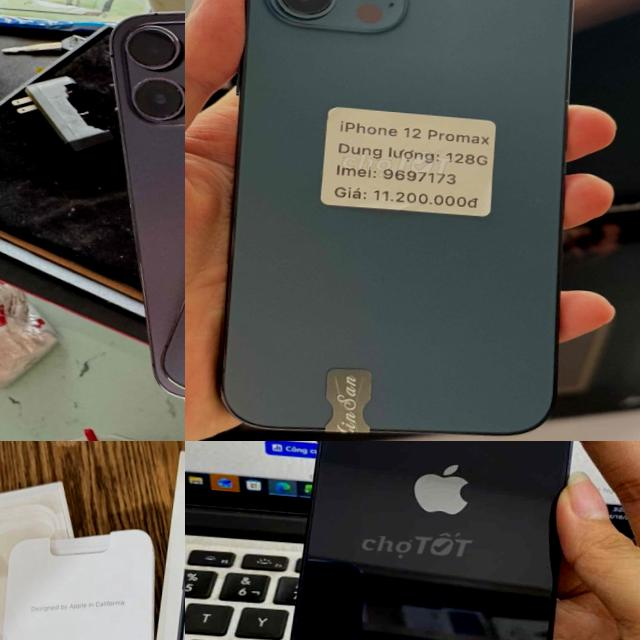gen_12_13: (206, 0, 592, 441), (294, 441, 588, 640)
gen_15: (0, 552, 104, 640)
